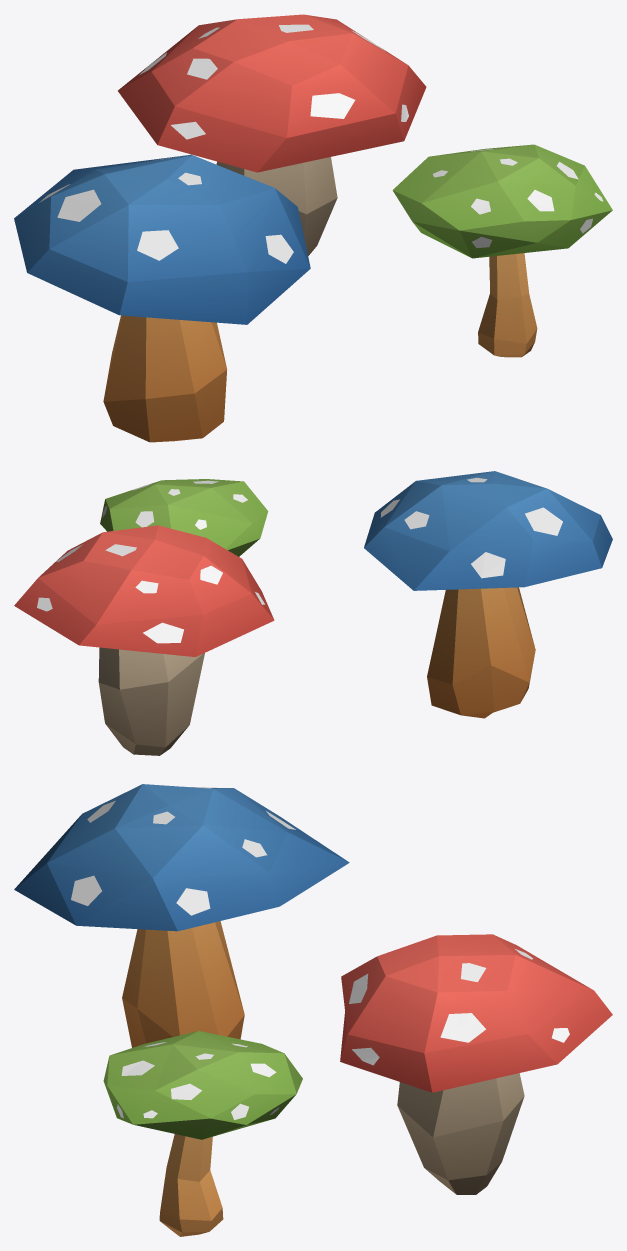
File: bouncy_mushrooms.fbx
The picture shows the model from 3 angles, top to bottom: view 1: azimuth 30°, elevation 25°; view 2: azimuth 150°, elevation 25°; view 3: azimuth 270°, elevation 25°; orthographic projection. The views are drawn at different scales.
Visible parts, largest first — view 1: mushroom_blue_top, mushroom_red_top, mushroom_green_top, mushroom_blue_bottom, mushroom_green_bottom, mushroom_red_bottom; view 2: mushroom_red_top, mushroom_blue_top, mushroom_blue_bottom, mushroom_red_bottom, mushroom_green_top; view 3: mushroom_blue_top, mushroom_red_top, mushroom_green_top, mushroom_blue_bottom, mushroom_red_bottom, mushroom_green_bottom.
Boxes of the visible parts, x1,y1,x2,y2 form: mushroom_blue_top: (14,154,310,324); mushroom_red_top: (118,14,426,172); mushroom_green_top: (392,144,612,258); mushroom_blue_bottom: (103,315,227,442); mushroom_green_bottom: (478,253,537,357); mushroom_red_bottom: (216,157,337,255); mushroom_red_top: (14,525,274,656); mushroom_blue_top: (364,471,612,590); mushroom_blue_bottom: (427,587,535,718); mushroom_red_bottom: (98,647,204,755); mushroom_green_top: (100,479,268,556); mushroom_blue_top: (14,784,349,931); mushroom_red_top: (340,934,612,1092); mushroom_green_top: (103,1031,302,1139); mushroom_blue_bottom: (122,921,244,1047); mushroom_red_bottom: (397,1073,524,1194); mushroom_green_bottom: (159,1134,223,1236).
Bounding box in the file's own units: 764 × 338 × 713.
